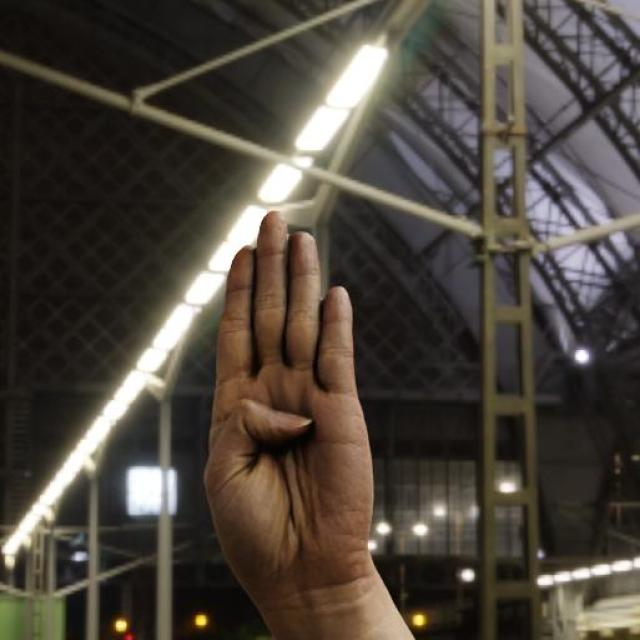B: (202, 208, 376, 586)
